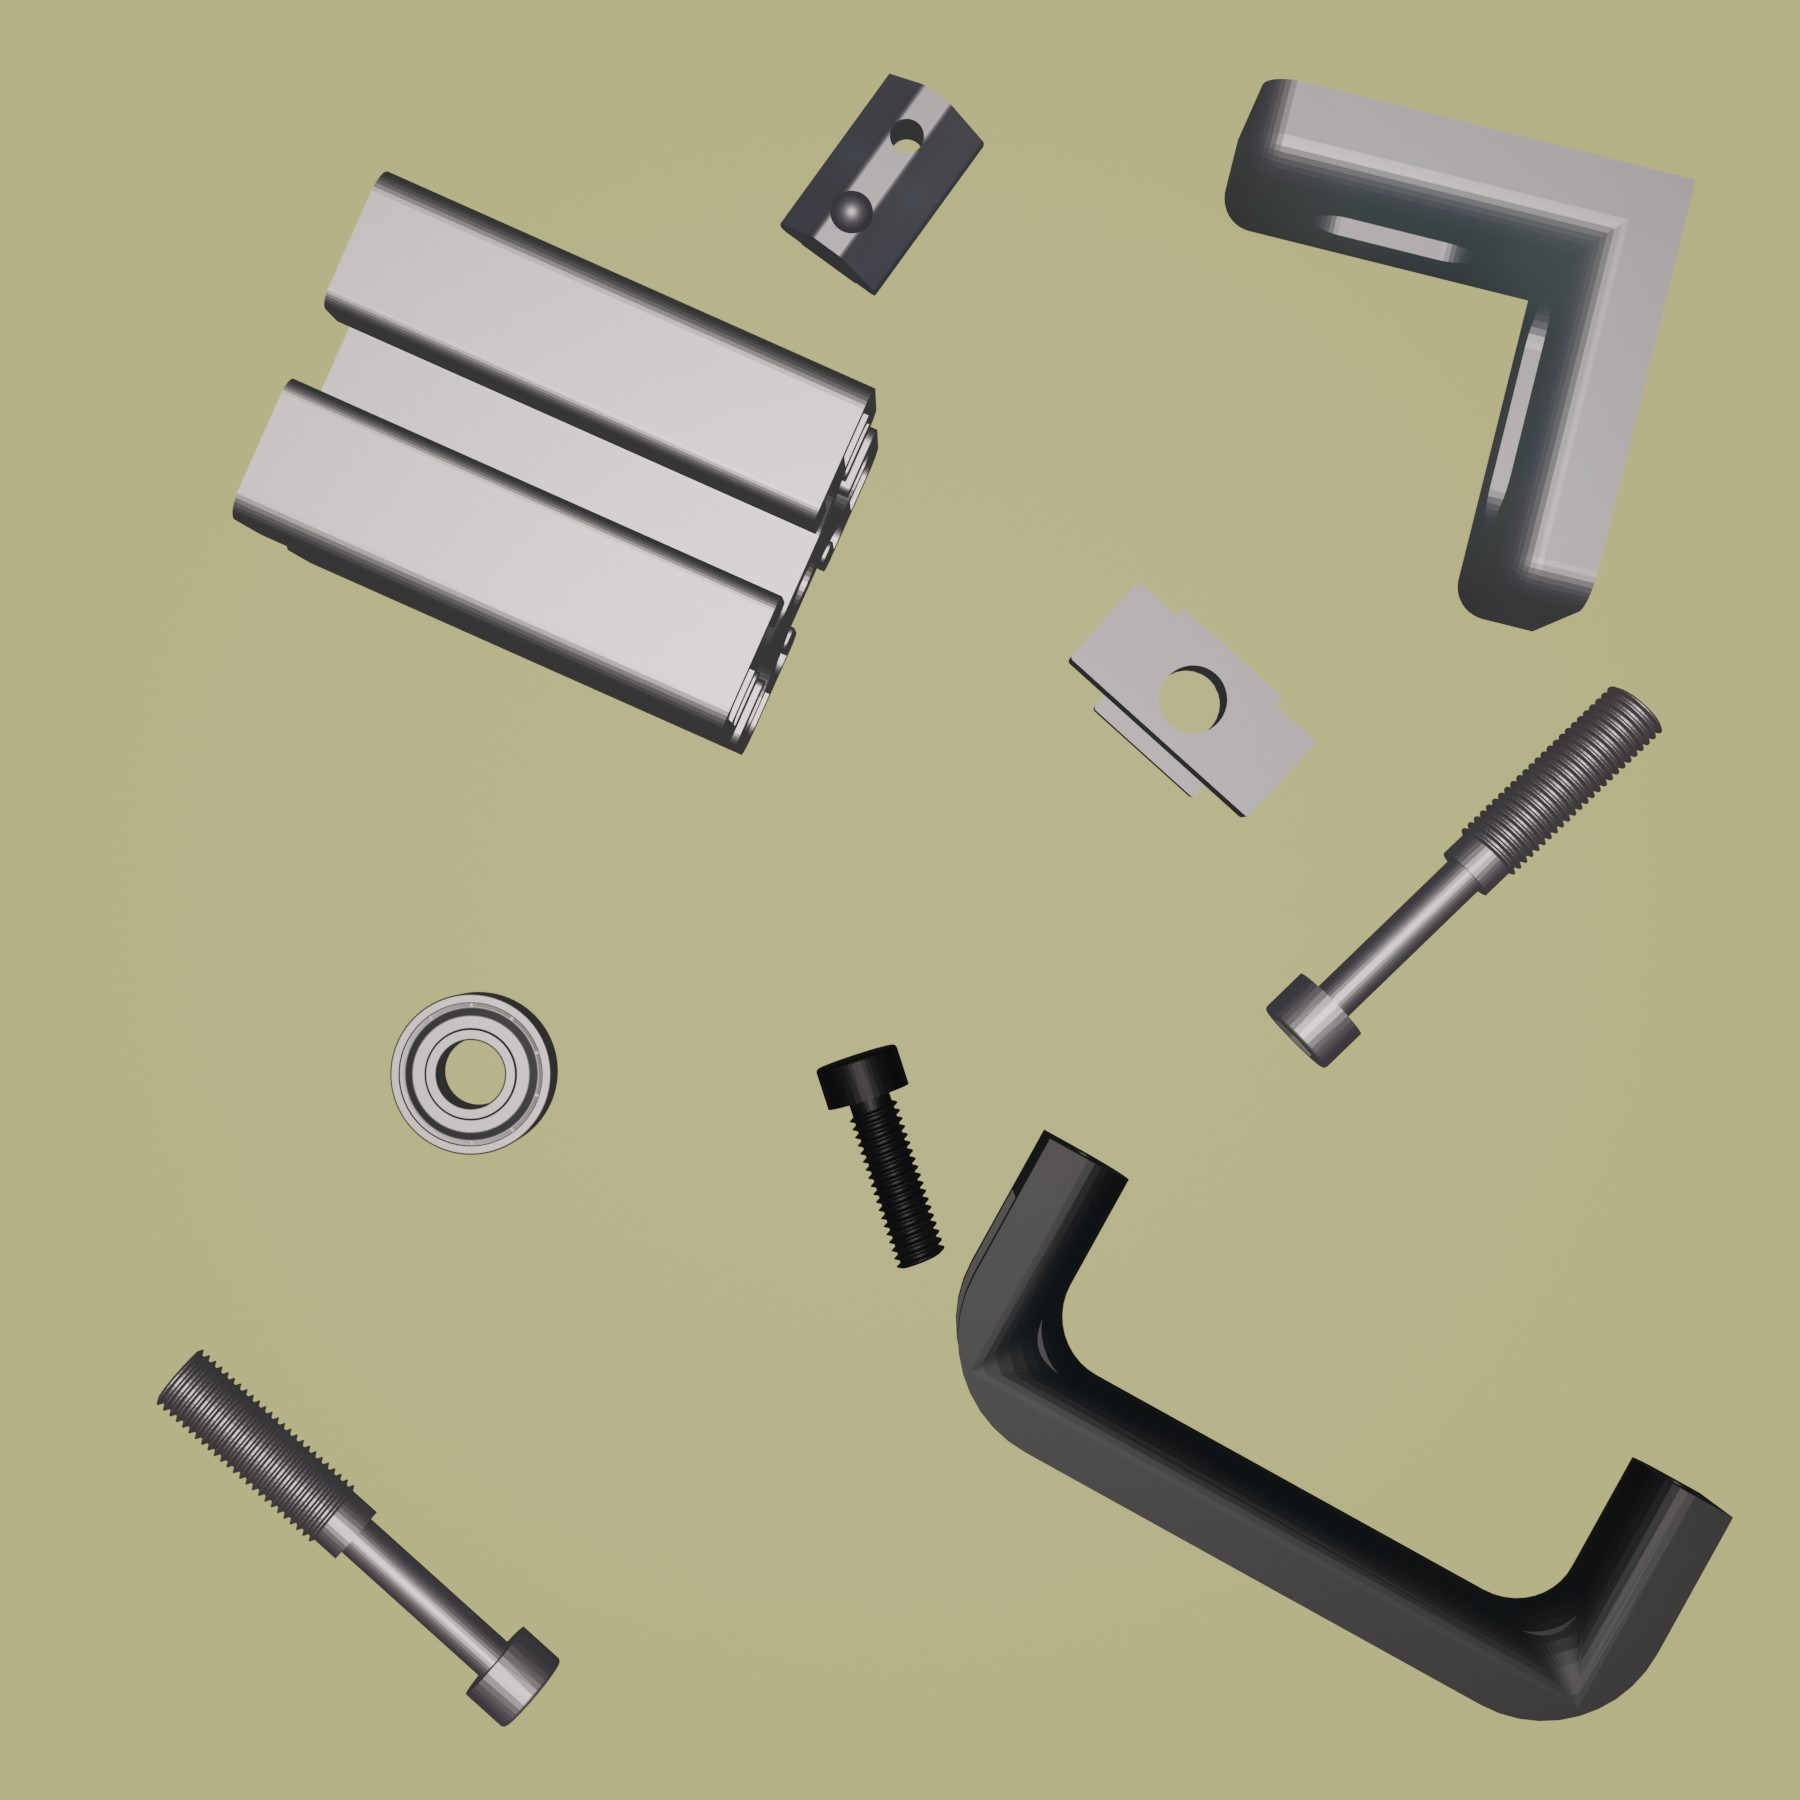Aluminium Extension: (229, 166, 880, 758)
Ball Bearing: (389, 986, 560, 1159)
Multiwinkel: (1221, 74, 1698, 635)
Pull Handle: (953, 1126, 1732, 1724)
Shoulder Socket Head Cap Screw: (152, 1347, 562, 1727), (1264, 686, 1665, 1070)
Socket Head Cap Screw: (814, 1038, 948, 1274)
T Nut Square: (1065, 582, 1319, 823)
T Spring Nut: (776, 69, 986, 297)
